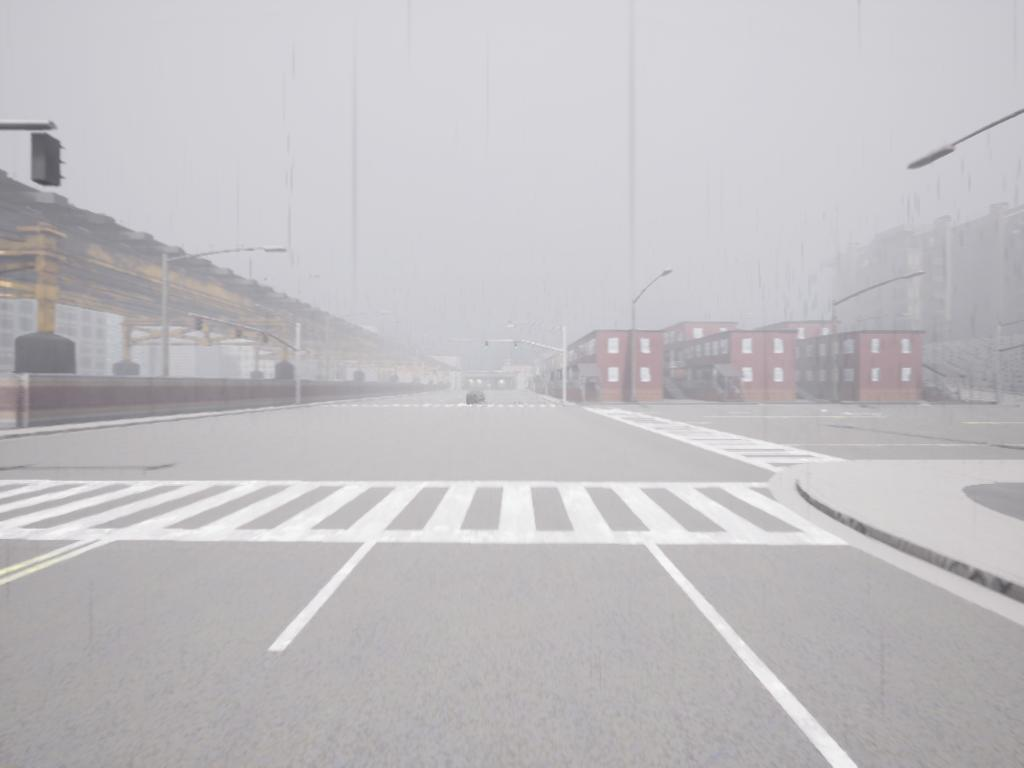traffic_light: (31, 137, 65, 187), (195, 318, 204, 334), (235, 327, 244, 339), (261, 332, 269, 345), (513, 342, 519, 352), (484, 342, 490, 351)
